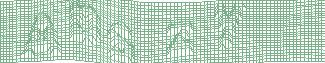A: (17, 10, 63, 60)
b: (69, 1, 102, 47)
s: (106, 21, 136, 63)
y: (211, 2, 245, 49)
z: (163, 21, 196, 58)
